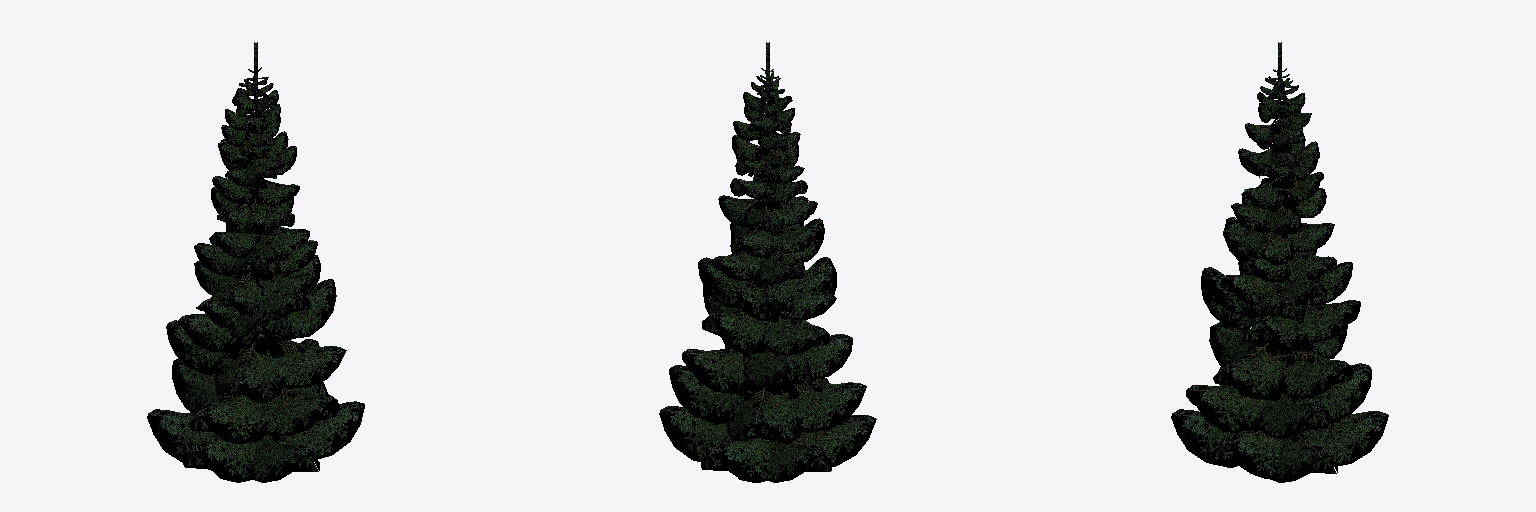
3 renders of one model, left to right at view 1: azimuth 30°, elevation 25°; view 2: azimuth 150°, elevation 25°; view 3: azimuth 270°, elevation 25°, orthographic.
Visible parts, largest first — view 1: Branches; view 2: Branches; view 3: Branches.
Boxes of the visible parts, box(x1,y1,x2,y2) form: Branches: box(147, 42, 364, 482); Branches: box(659, 42, 876, 482); Branches: box(1171, 42, 1388, 482).
Size of the model in its own units: 428 by 1000 by 462.
1 materials, 1 textured.